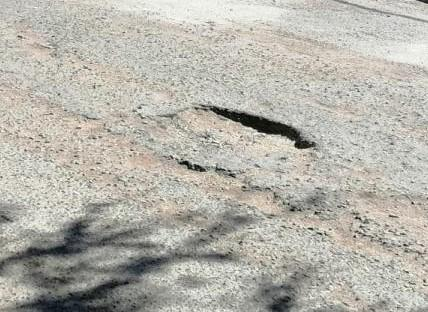pothole: (161, 102, 311, 155)
